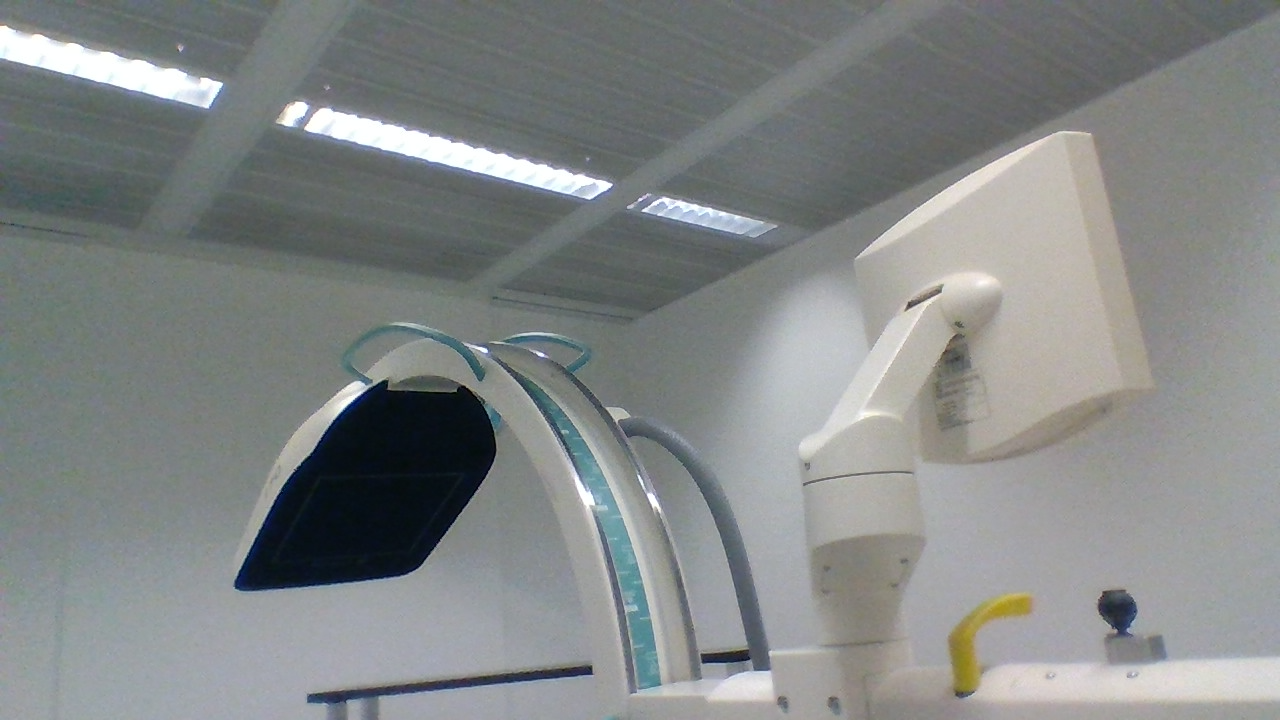carmSCREEN: (851, 127, 1156, 467)
carmUP: (227, 365, 499, 594)
